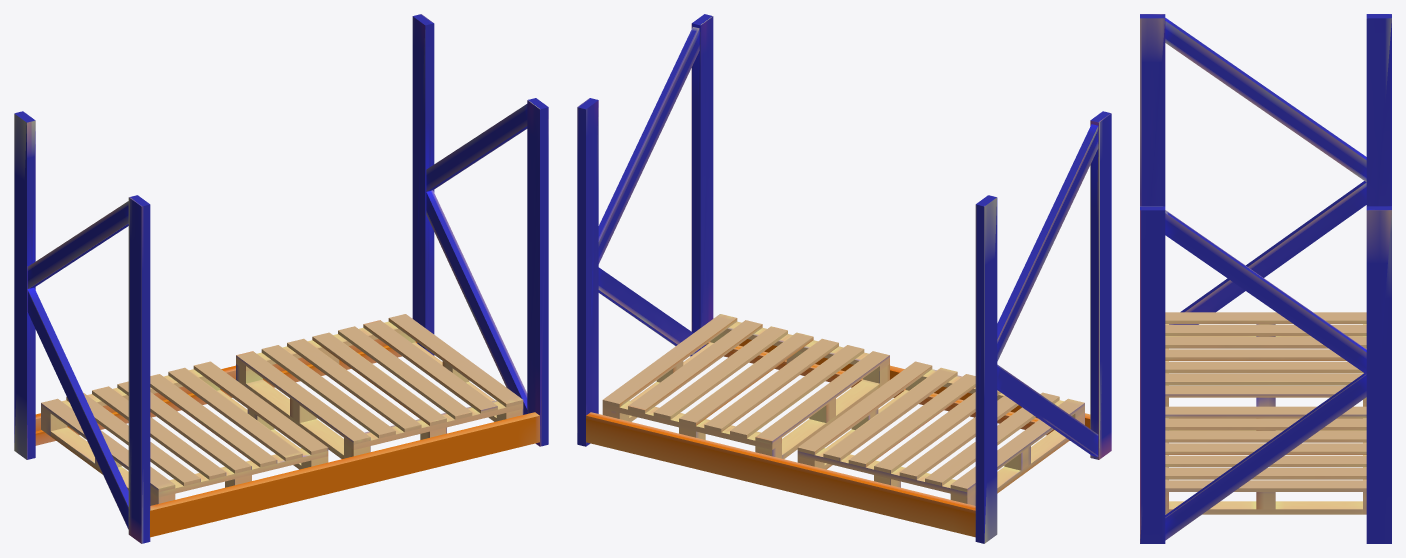
Rendered from Longarina_Separado_2pallets_128px.glb.
3 views of the same model, side by side, from view 1: azimuth 30°, elevation 25°; view 2: azimuth 150°, elevation 25°; view 3: azimuth 270°, elevation 25° (orthographic).
Visible parts, largest first — view 1: Barras_Laterais; view 2: Barras_Laterais; view 3: Barras_Laterais.
Part boxes in pixels (bbox=[...]): Barras_Laterais: bbox=[14, 14, 548, 543]; Barras_Laterais: bbox=[577, 14, 1111, 543]; Barras_Laterais: bbox=[1140, 14, 1391, 543].
Bounding box in the file's own units: 2.4 × 1.9 × 1.3.
Materials: 1 (1 with a texture image).
